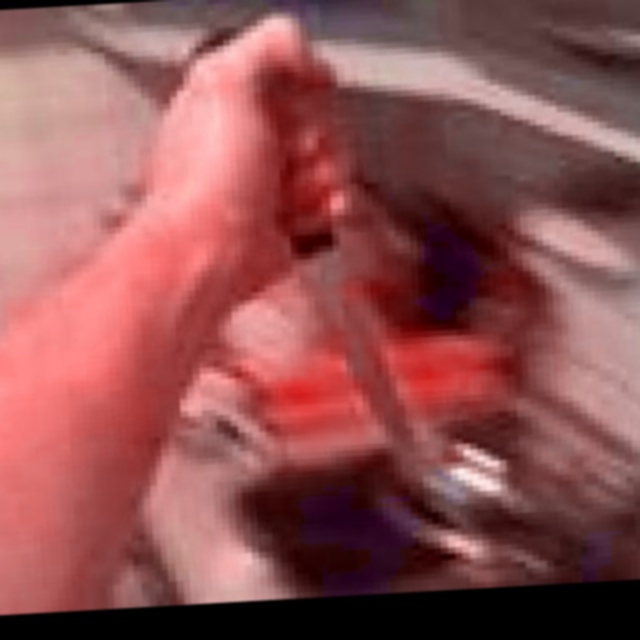Sharp-Object: (190, 24, 421, 489)
